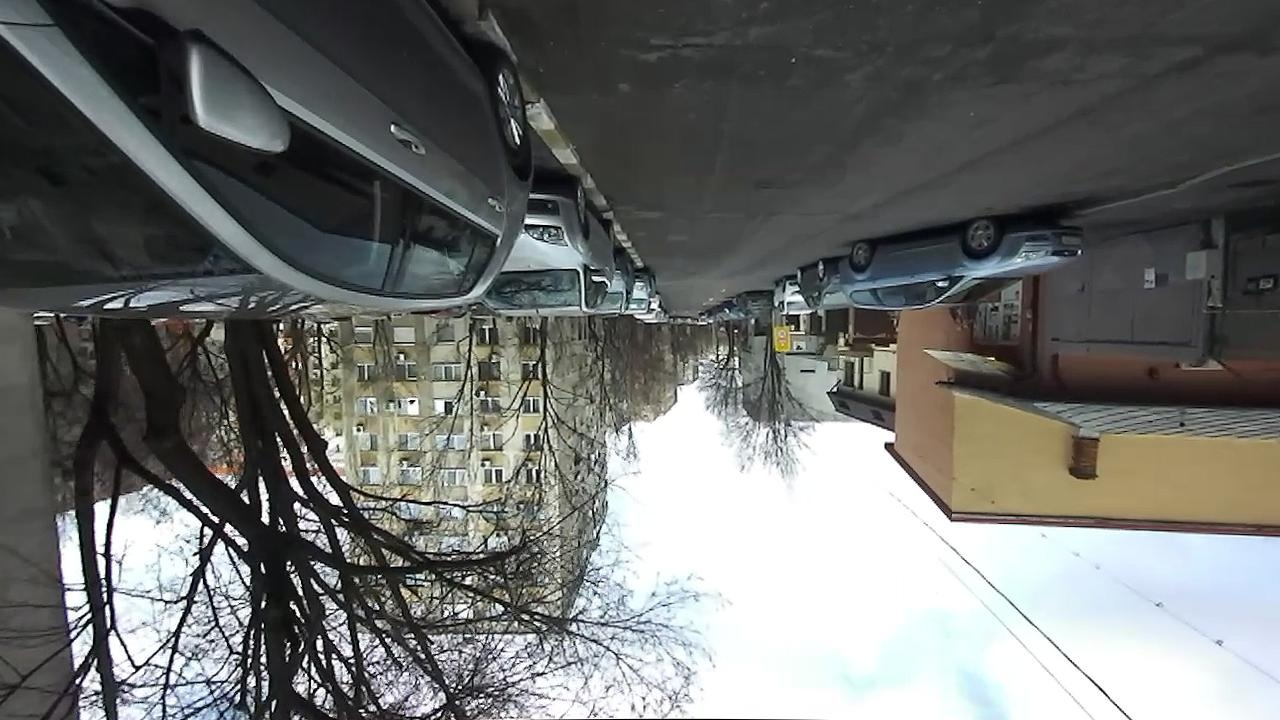pothole: (635, 34, 751, 63), (753, 179, 782, 194)
